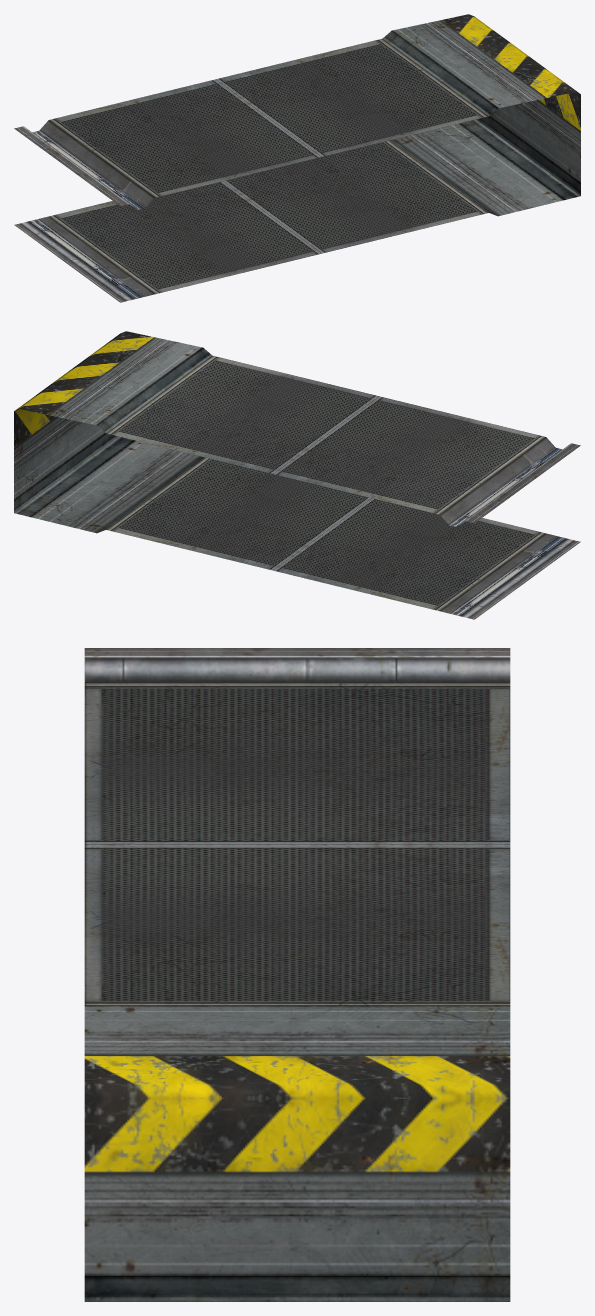
Rendered from FLO_PLatformSolid_1x2'5.FBX.
The picture shows the model from 3 angles, top to bottom: view 1: azimuth 30°, elevation 25°; view 2: azimuth 150°, elevation 25°; view 3: azimuth 270°, elevation 25°; orthographic projection. The views are drawn at different scales.
Visible parts, largest first — view 1: FLO_PLatformSolid_1x2'5; view 2: FLO_PLatformSolid_1x2'5; view 3: FLO_PLatformSolid_1x2'5.
Boxes of the visible parts, x1=… form: FLO_PLatformSolid_1x2'5: x1=14, y1=14, x2=580, y2=302; FLO_PLatformSolid_1x2'5: x1=14, y1=331, x2=580, y2=619; FLO_PLatformSolid_1x2'5: x1=84, y1=648, x2=510, y2=1301.
Size of the model in its own units: 250 by 55.97 by 100.
1 material, 1 textured.
